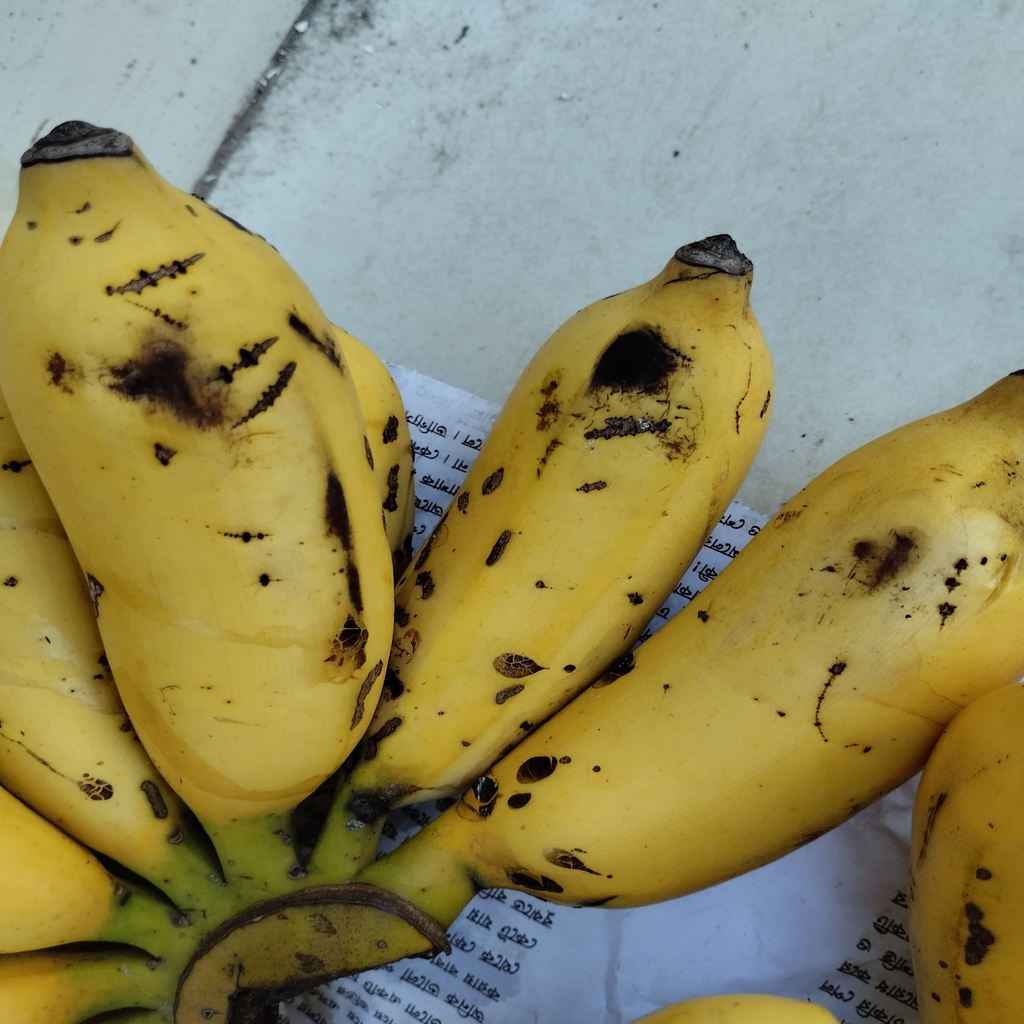unhealthy: (1, 145, 394, 804), (357, 252, 770, 815)
